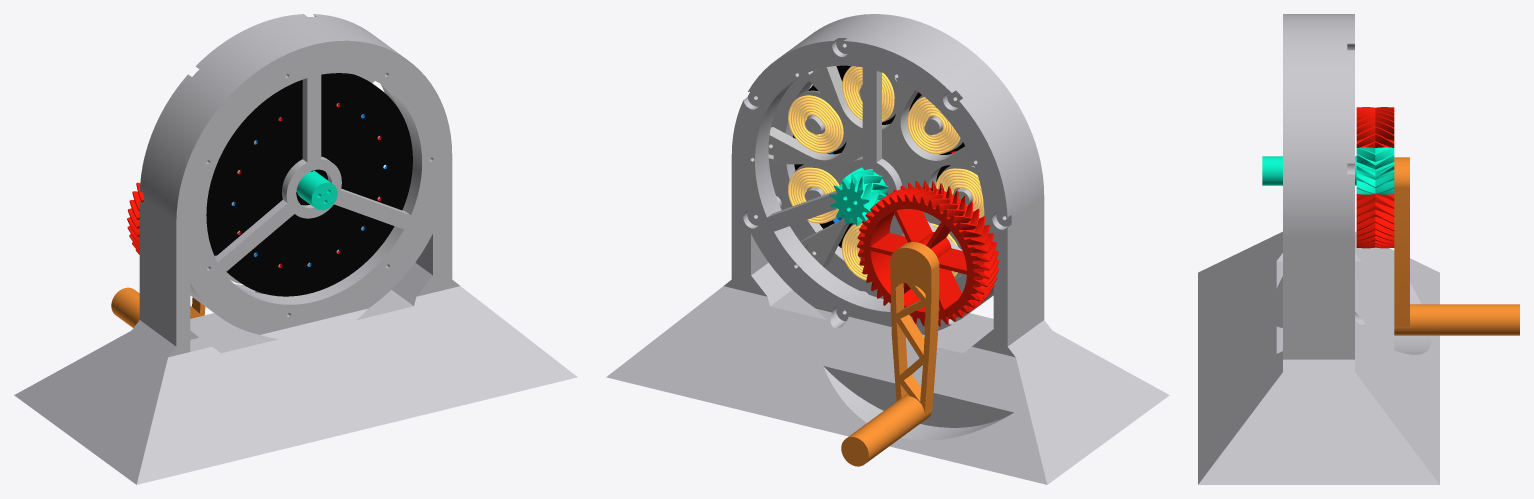
Rendered from Dynamo.glb.
3 views of the same model, side by side, from view 1: azimuth 30°, elevation 25°; view 2: azimuth 150°, elevation 25°; view 3: azimuth 270°, elevation 25° (orthographic).
Bounding box in the file's own units: 0.32 × 0.2459 × 0.205.
